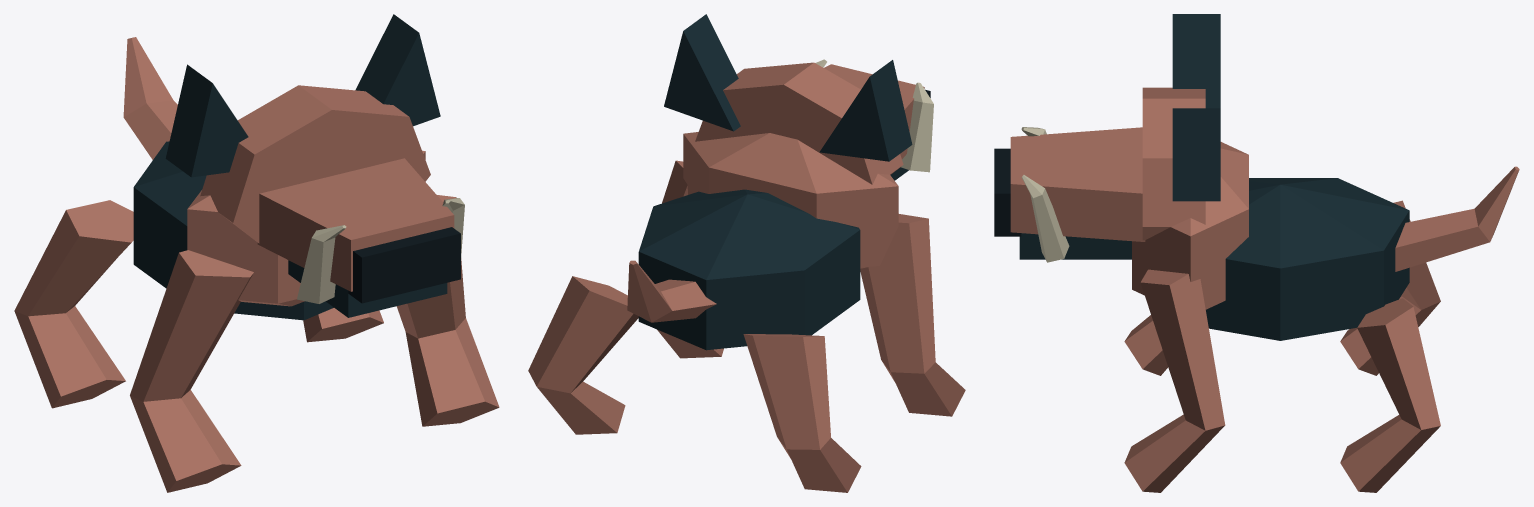
The model's file is fang.glb.
3 renders of one model, left to right at view 1: azimuth 30°, elevation 25°; view 2: azimuth 150°, elevation 25°; view 3: azimuth 270°, elevation 25°, orthographic. The views are drawn at different scales.
Parts seen in each view (by area): view 1: body, head, jaw; view 2: body, head, jaw; view 3: body, head, jaw.
Boxes of the visible parts, x1,y1,x2,y2 form: body: [14, 37, 499, 492]; head: [165, 14, 460, 303]; jaw: [288, 198, 464, 317]; body: [528, 132, 965, 492]; head: [664, 14, 930, 184]; jaw: [815, 59, 933, 180]; body: [1124, 142, 1519, 492]; head: [994, 14, 1220, 241]; jaw: [1019, 127, 1131, 262].
Size of the model in its own units: 1.05 by 1.2 by 1.55.
